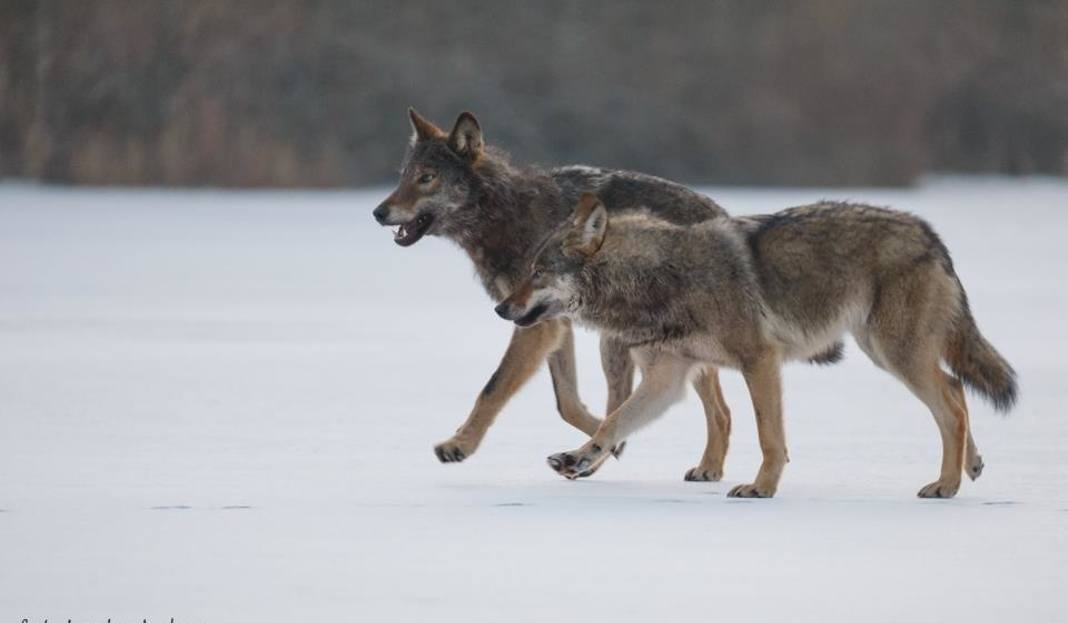wolf: (370, 126, 795, 474), (505, 208, 1005, 489)
